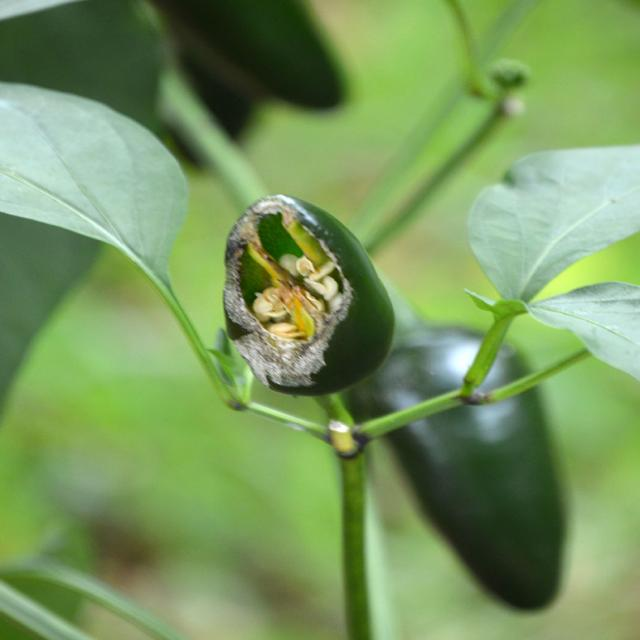aji: (383, 326, 591, 606), (206, 195, 428, 456)
